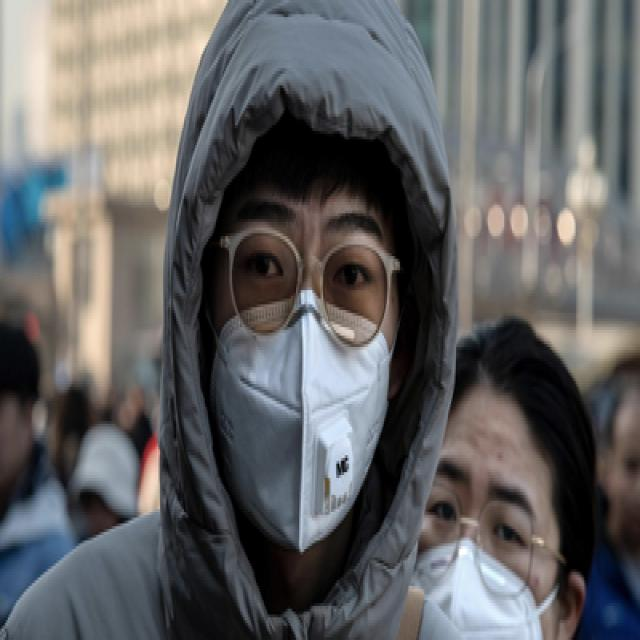with_mask: (210, 188, 400, 560), (411, 443, 563, 638)
